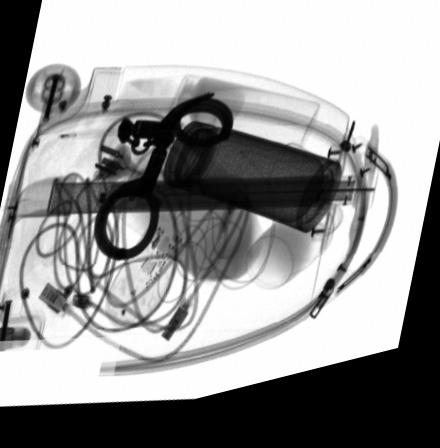HandCuffs: (90, 100, 234, 267)
